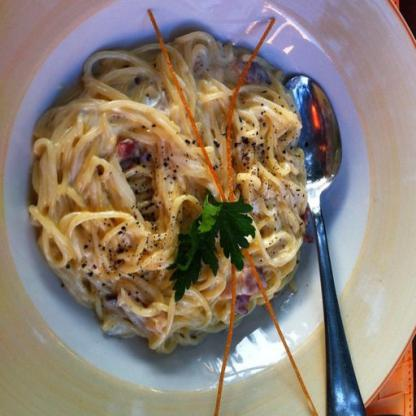pasta: (28, 27, 329, 348)
